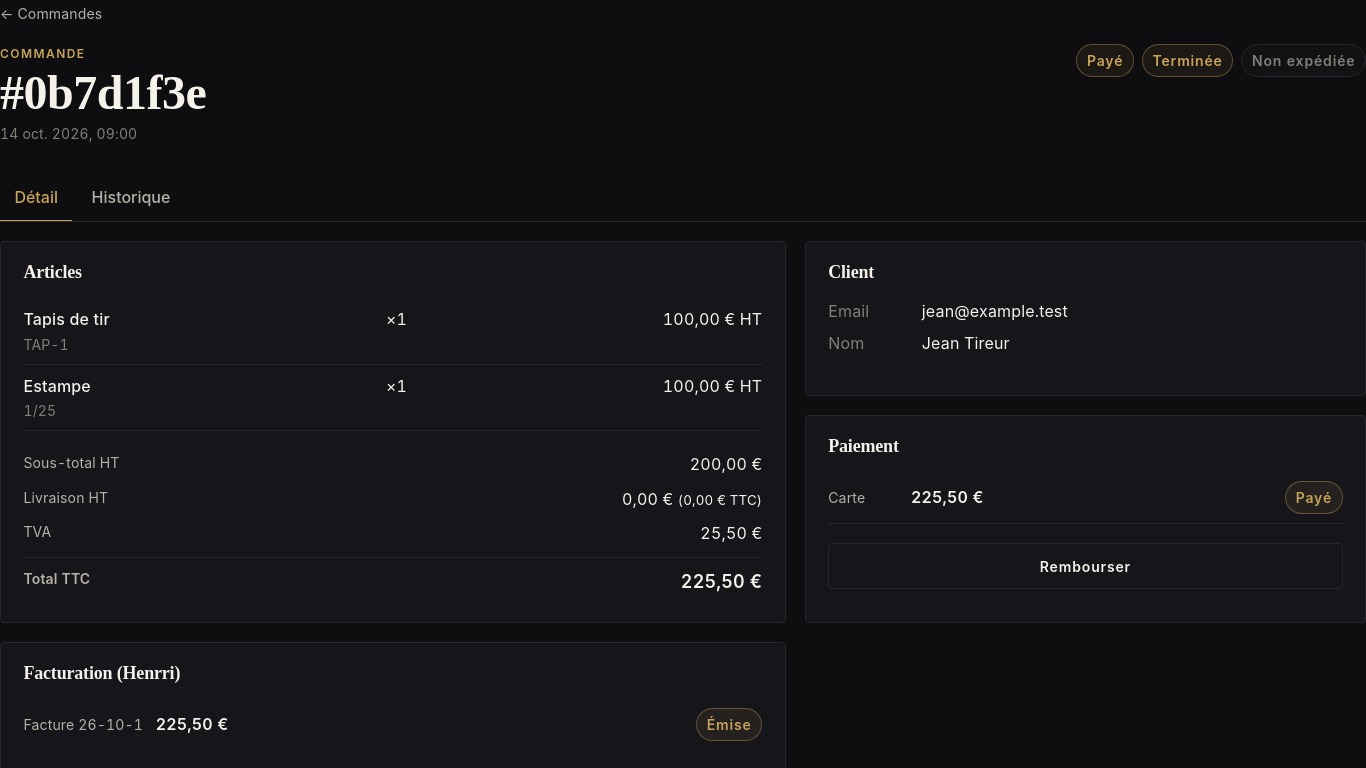
admin order — refunds (decisions 2026-10-14) › asks the API what a return comes to, and shows it
This screenshot has width=1366, height=768.
Click the button "Rembourser". click: (1085, 566)
box: [828,543,1343,589]
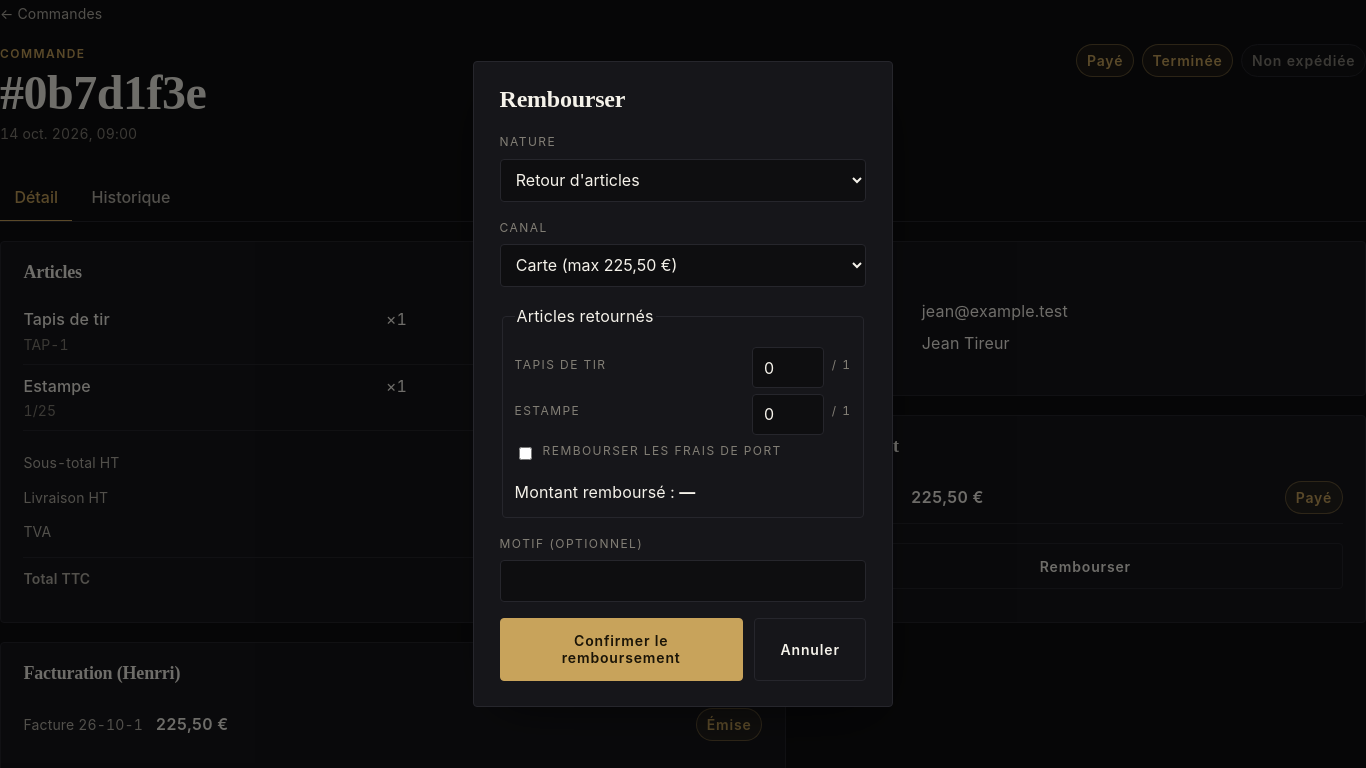
Replace the text in the number field with class "returns__qty" showing "Estampe / 1" with "1". click: (788, 414)
box: [752,394,824,435]
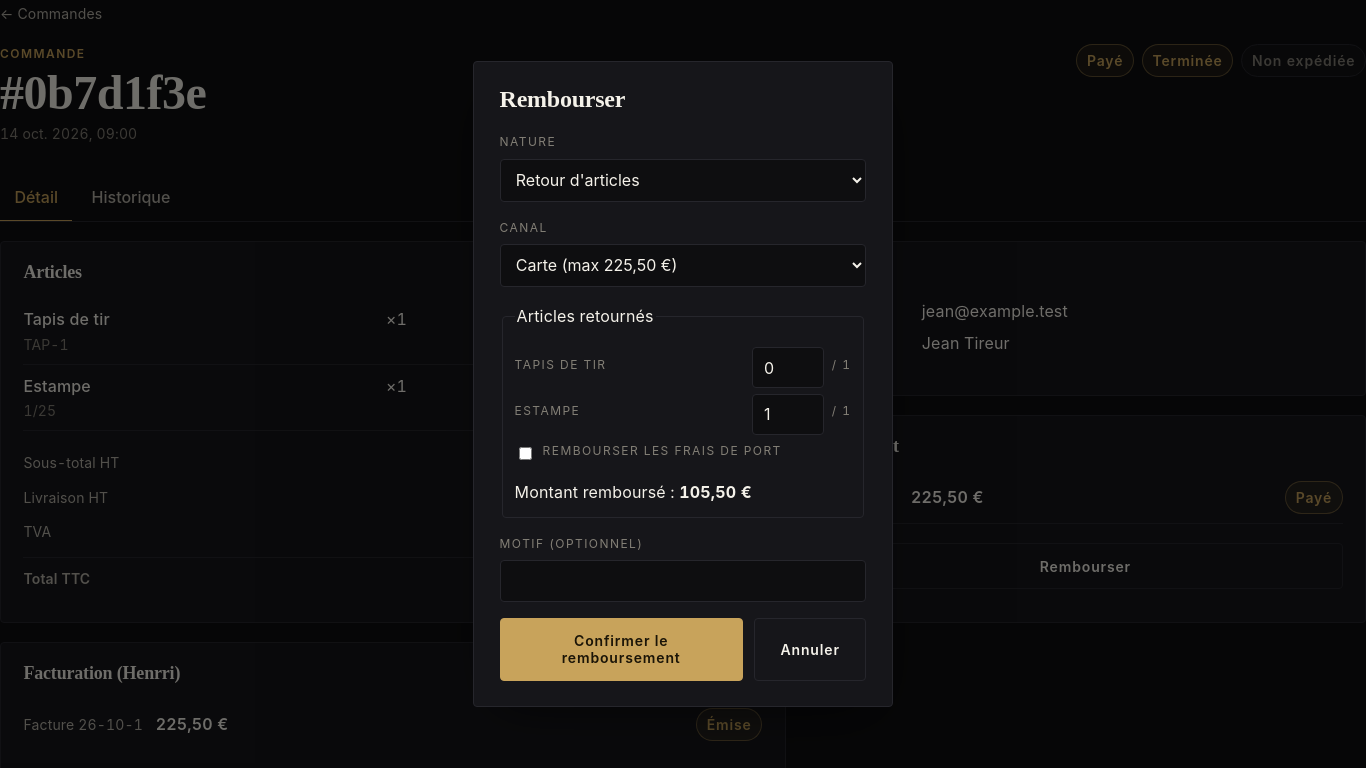
Now the element with class "returns__amount" shows "105,50", box [679,482,752,502]
